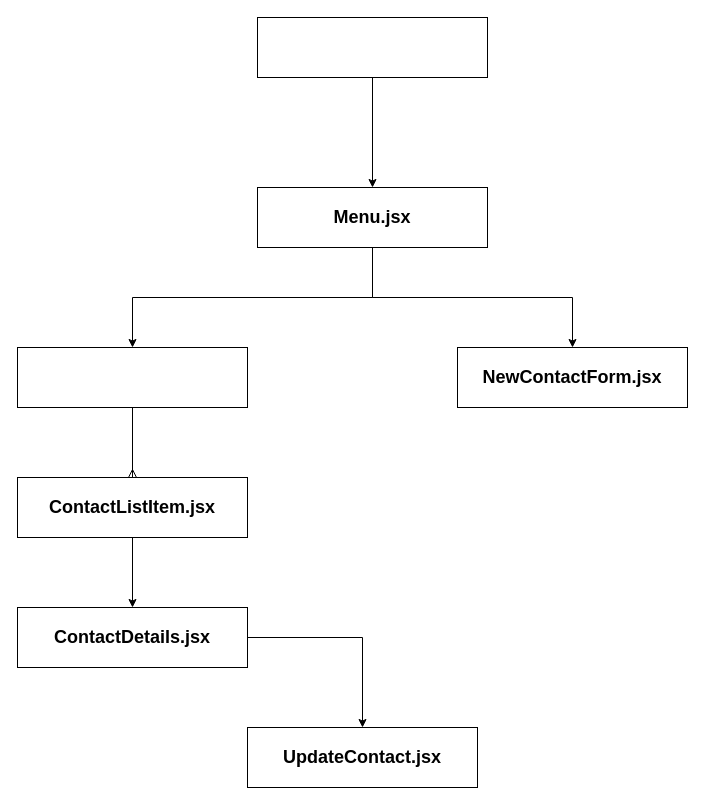
Some shapes in this 705 by 805 pixel diagram are drawn without their labels. The shapes that lost their labels are listed below. From the top down, each one's box as (x1, y1, x2, y2) in pixels, then its label:
(256, 16, 488, 78): App.jsx
(16, 346, 248, 408): ContactList.jsx
